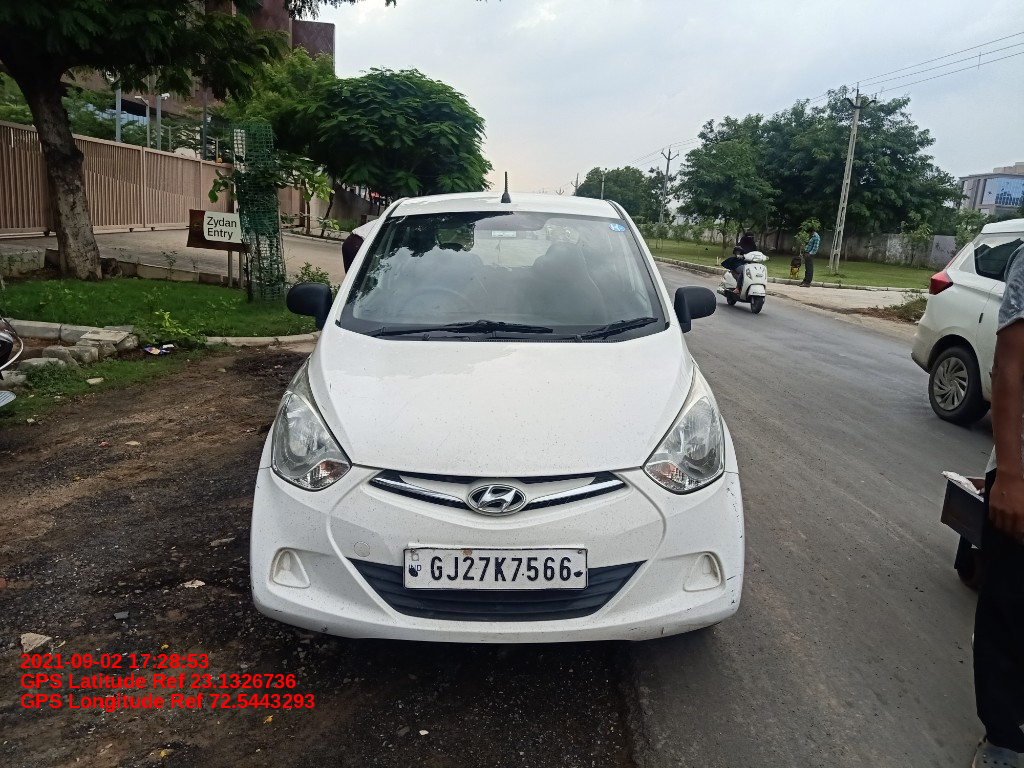Cracked: (654, 621, 670, 640), (317, 618, 331, 638)
Scratched: (475, 628, 528, 645), (731, 501, 746, 539), (677, 619, 717, 631), (727, 566, 743, 583), (624, 622, 646, 634), (727, 588, 740, 608), (725, 482, 741, 498), (272, 603, 290, 615), (250, 582, 260, 603), (325, 380, 338, 394), (320, 399, 331, 414), (685, 604, 694, 615)
